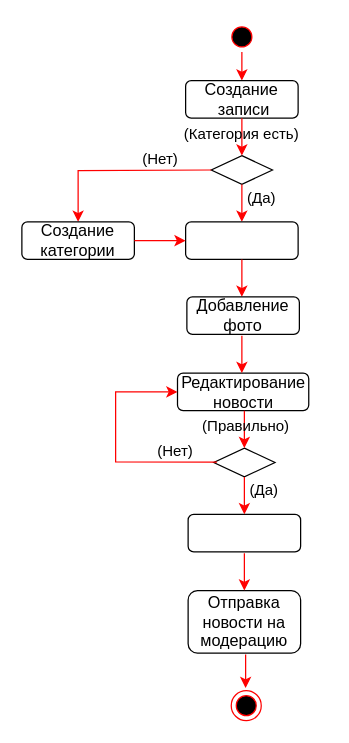
Some shapes in this 349 by 743 pixel diagram are drawn without their labels. The shapes that lost their labels are listed below. From the top down, each one's centre as x and y in pixels, then its label:
point 241,240: Написание новости
point 244,532: Сохранение новости
